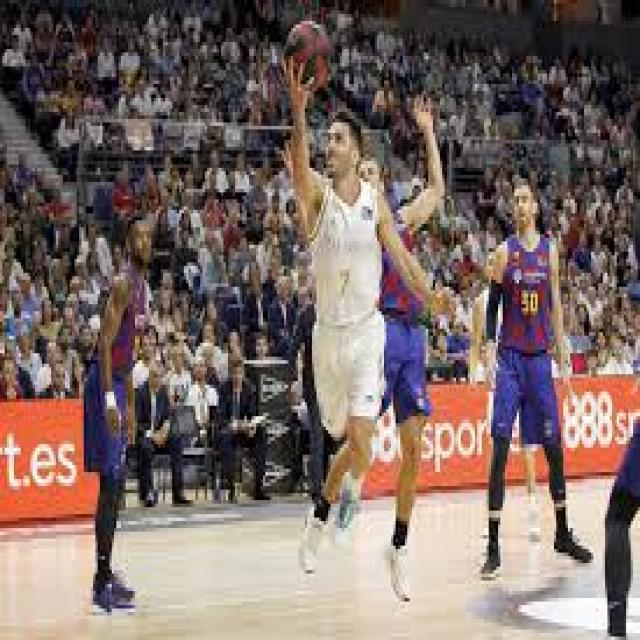rim: (286, 21, 331, 84)
